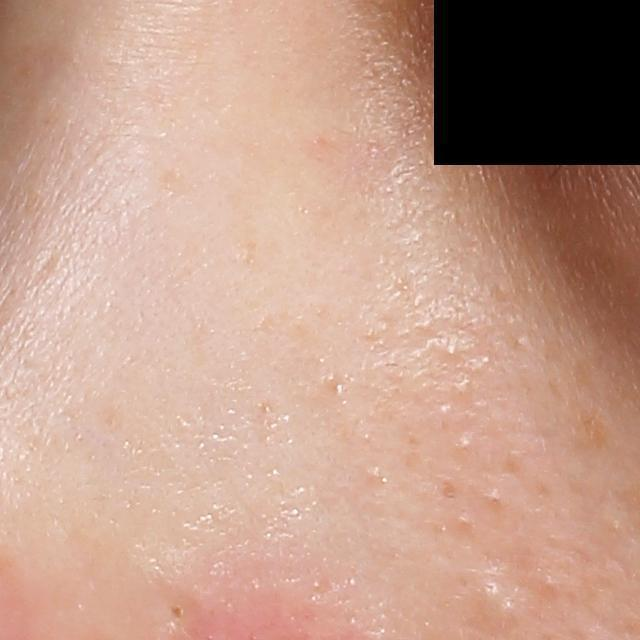comedo: (156, 597, 188, 630), (478, 483, 510, 510), (437, 337, 469, 364), (453, 427, 481, 457), (449, 506, 480, 533), (433, 395, 457, 422), (452, 376, 477, 399), (478, 581, 505, 602)
melasma: (572, 406, 616, 454)
